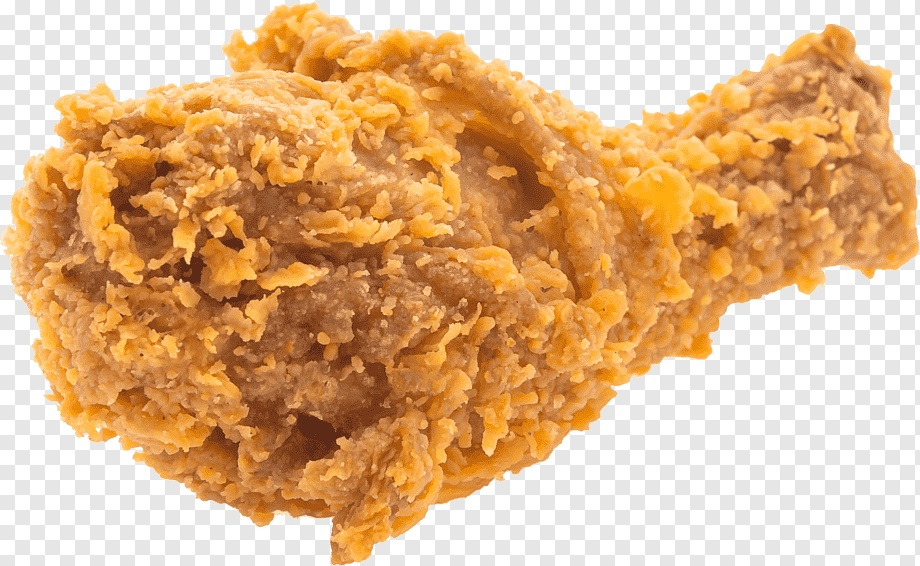ayam_goreng: (13, 2, 920, 552)
